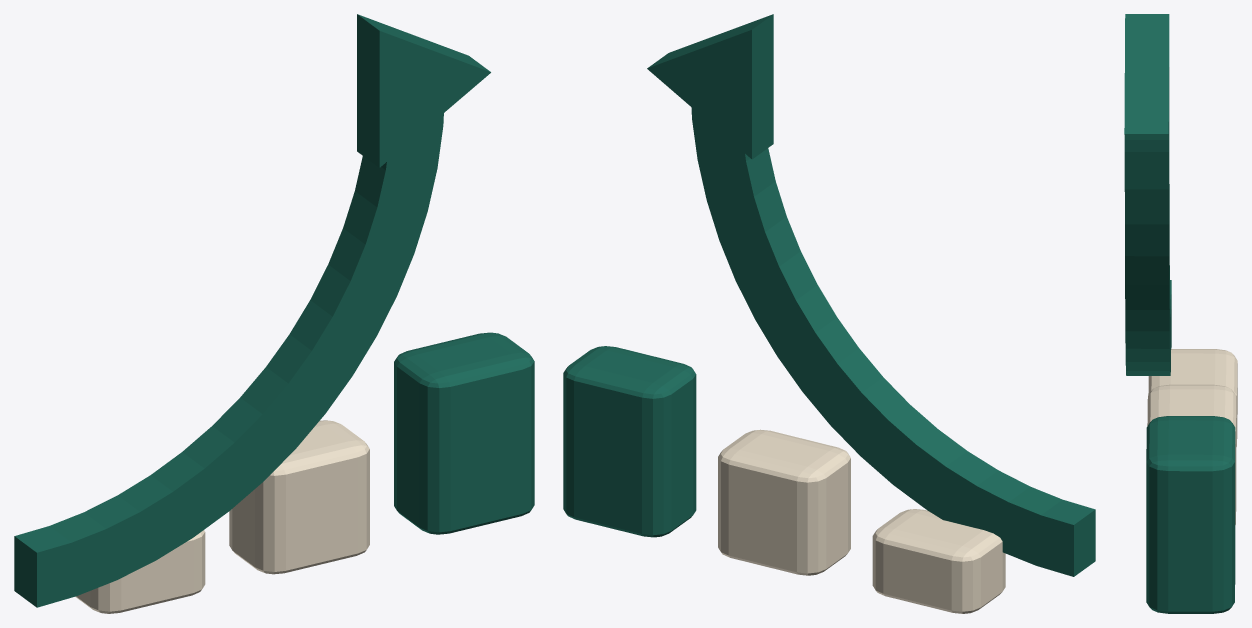
Rendered from pole-conseil.glb.
3 renders of one model, left to right at view 1: azimuth 30°, elevation 25°; view 2: azimuth 150°, elevation 25°; view 3: azimuth 270°, elevation 25°, orthographic. The views are drawn at different scales.
Parts seen in each view (by area): view 1: con_arc, con_bar2, con_bar1, con_head, con_bar0; view 2: con_arc, con_bar2, con_bar1, con_bar0, con_head; view 3: con_bar2, con_arc, con_head, con_bar1, con_bar0.
Boxes of the visible parts, <box> form: con_arc: <box>14,113,443,607</box>; con_bar2: <box>394,332,534,534</box>; con_bar1: <box>229,420,369,574</box>; con_head: <box>357,14,490,167</box>; con_bar0: <box>75,530,205,613</box>; con_arc: <box>690,79,1095,576</box>; con_bar2: <box>563,346,696,537</box>; con_bar1: <box>718,429,850,575</box>; con_bar0: <box>872,509,1005,613</box>; con_head: <box>647,14,773,159</box>; con_bar2: <box>1146,416,1235,613</box>; con_arc: <box>1124,129,1171,375</box>; con_head: <box>1124,14,1169,139</box>; con_bar1: <box>1147,384,1236,524</box>; con_bar0: <box>1148,349,1237,446</box>.
Bounding box in the file's own units: 0.7857 × 0.78 × 0.1532.
